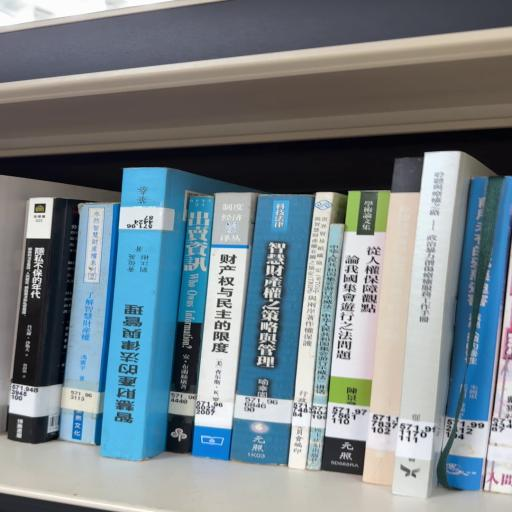reverse: (102, 168, 261, 461)
